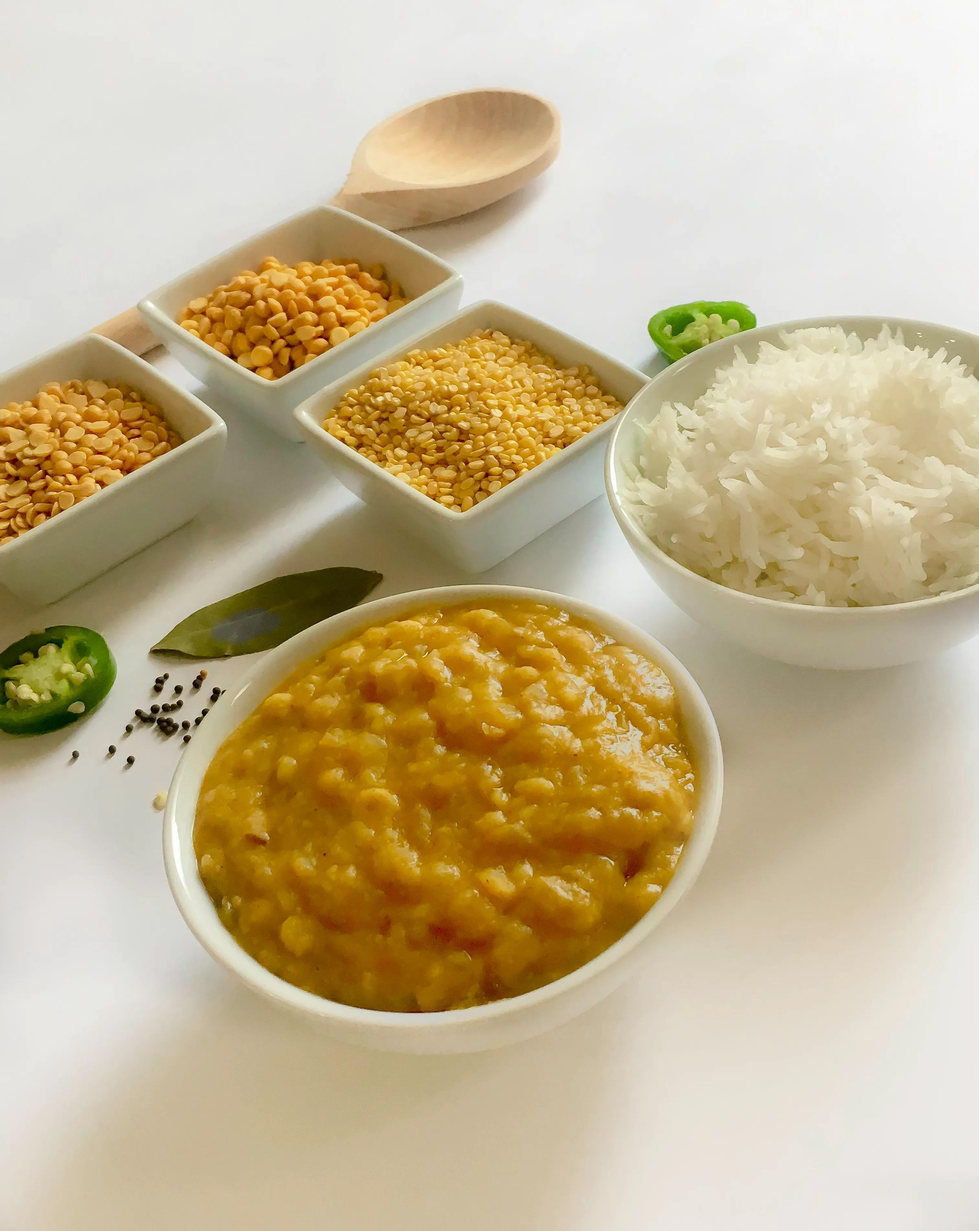Dal: (195, 602, 706, 1006)
WhiteRice: (630, 323, 979, 609)
